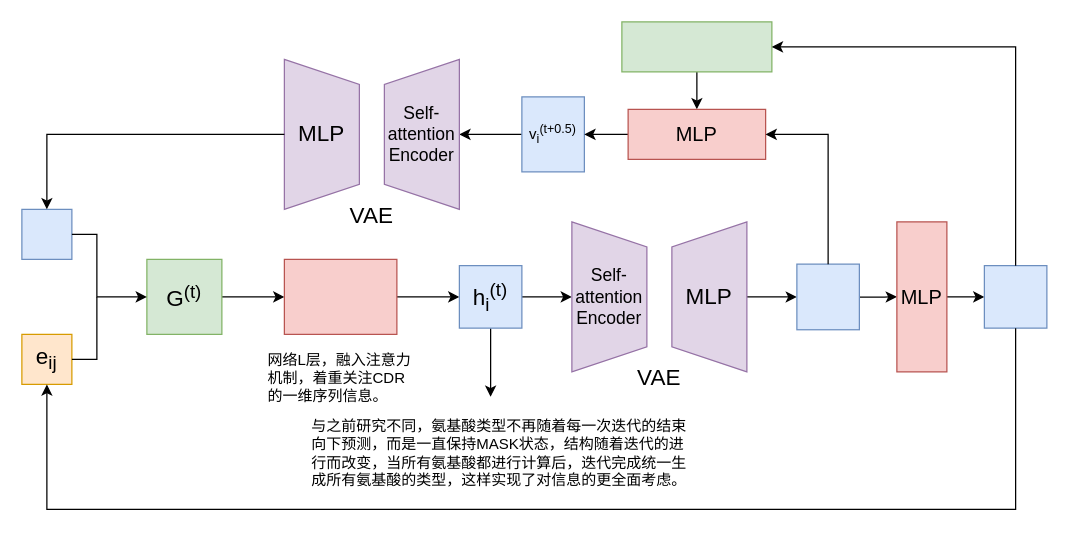
This 1069x541 diagram has some shape labels left out. Each missing label, with the centre of its shape:
"h i (t+0.5)" belongs at point (827, 296).
"MPN θ" belongs at point (340, 296).
"v i" belongs at point (46, 233).
"x i (t+1)" belongs at point (1015, 296).
"全局图信息" belongs at point (696, 46).
